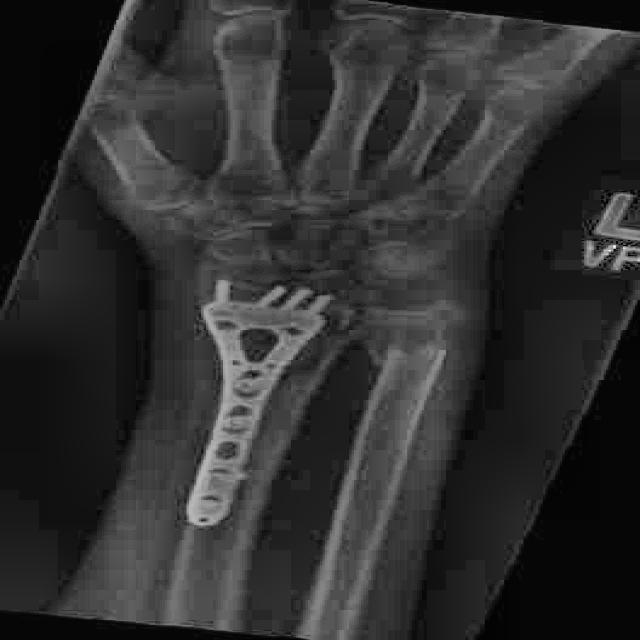wrist positive: (264, 311, 480, 383)
